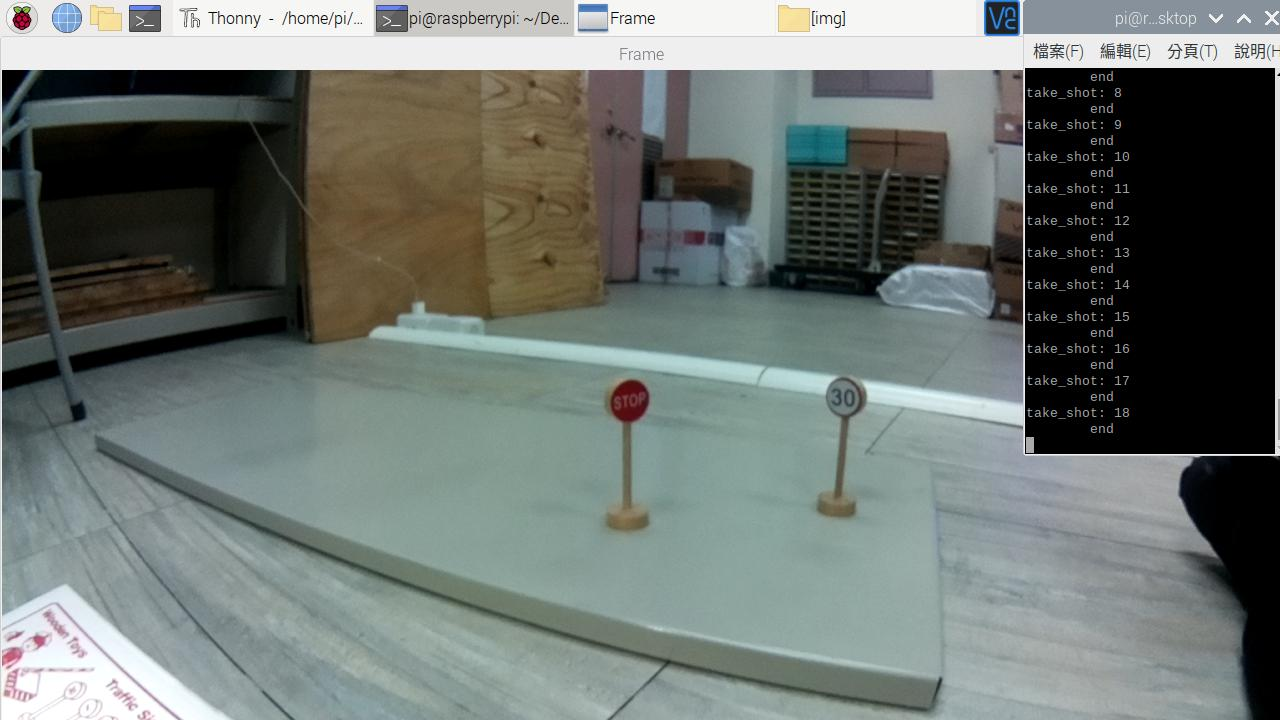Speed30: (823, 374, 859, 421)
Stop: (611, 377, 654, 421)
